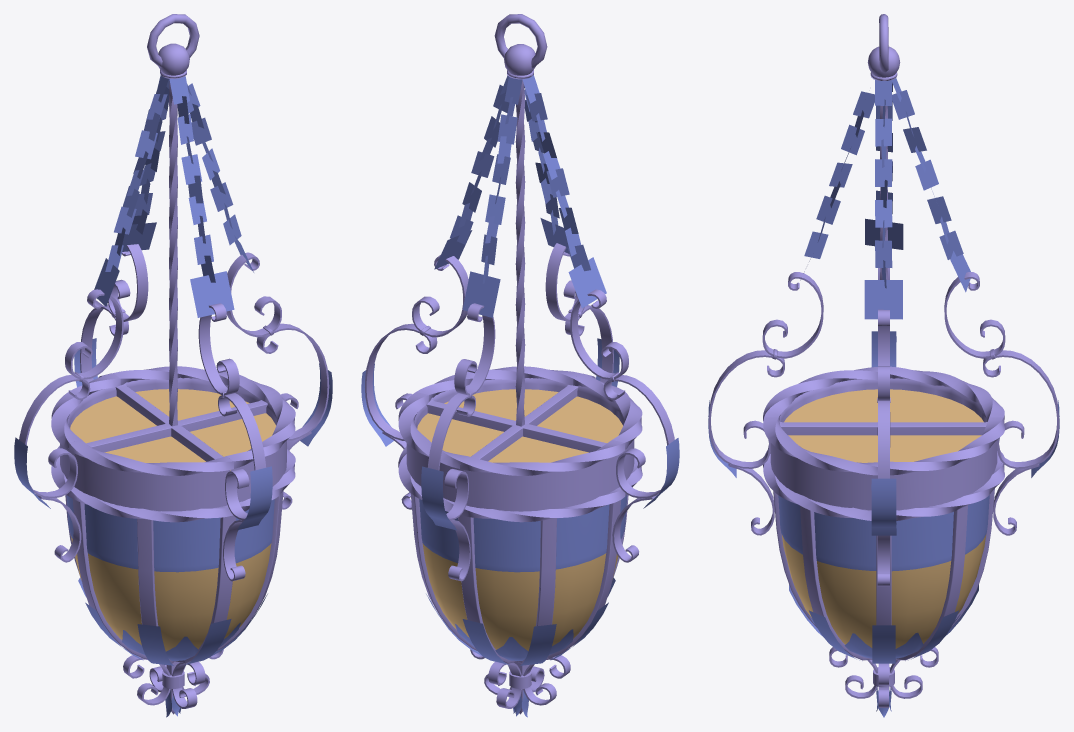
File: SM_Flashlight.fbx
3 views of the same model, side by side, from view 1: azimuth 30°, elevation 25°; view 2: azimuth 150°, elevation 25°; view 3: azimuth 270°, elevation 25° (orthographic).
Visible parts, largest first — view 1: Flashlight; view 2: Flashlight; view 3: Flashlight.
Part boxes in pixels (box(x1,y1,x2,y2)): Flashlight: box(14, 14, 332, 717); Flashlight: box(361, 14, 679, 717); Flashlight: box(708, 14, 1059, 717).
Size of the model in its own units: 35.37 by 77.54 by 35.37.
